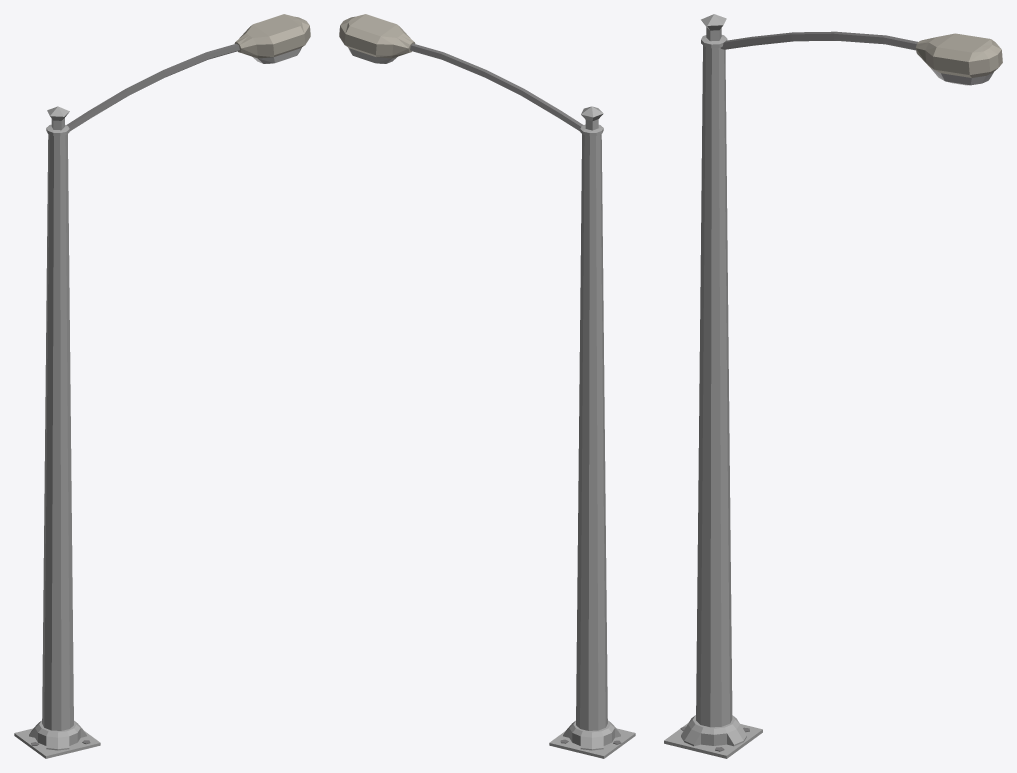
The model's file is SM_lantern.gltf.
The picture shows the model from 3 angles, left to right: view 1: azimuth 30°, elevation 25°; view 2: azimuth 150°, elevation 25°; view 3: azimuth 330°, elevation 25°; orthographic projection. The views are drawn at different scales.
Parts seen in each view (by area): view 1: SM_lantern; view 2: SM_lantern; view 3: SM_lantern.
Boxes of the visible parts, x1,y1,x2,y2 form: SM_lantern: [14, 14, 310, 758]; SM_lantern: [339, 14, 635, 758]; SM_lantern: [664, 14, 1002, 758].
Bounding box in the file's own units: 2.7 × 6.17 × 0.5349.
Materials: 1 (1 with a texture image).
